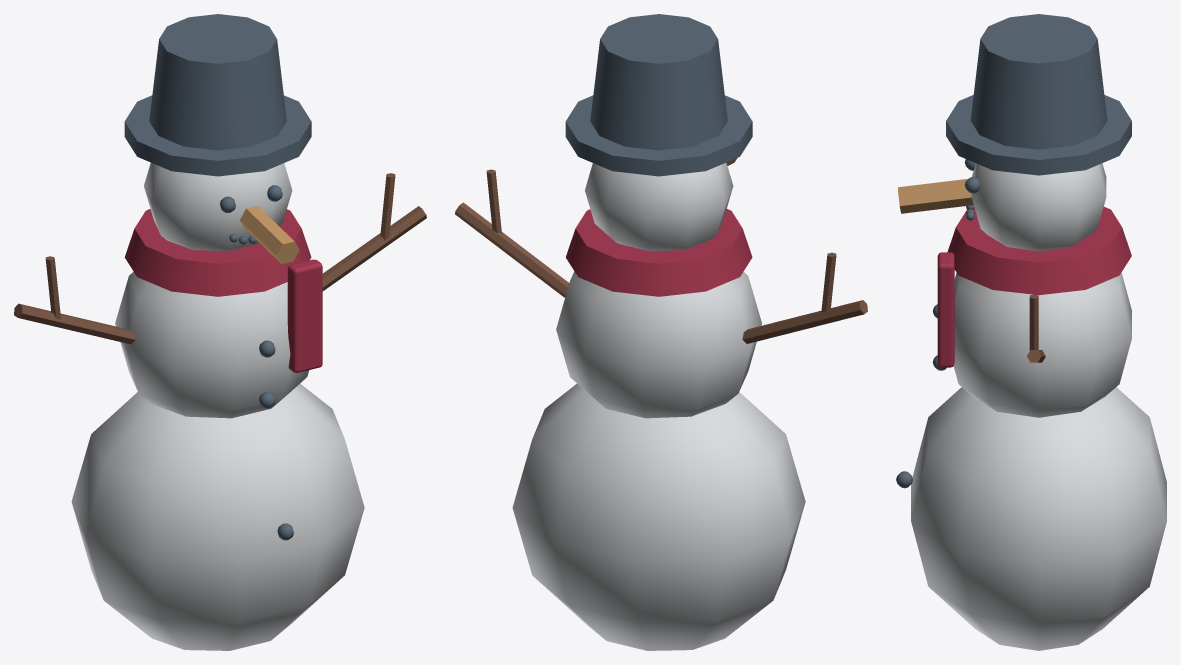
File: alpine-snow-village-smiling-scarf-snowman-e99ab7a5__19822.glb
3 views of the same model, side by side, from view 1: azimuth 30°, elevation 25°; view 2: azimuth 150°, elevation 25°; view 3: azimuth 270°, elevation 25° (orthographic).
Visible parts, largest first — view 1: smiling-scarf-snowman-snow, smiling-scarf-snowman-iron, smiling-scarf-snowman-berry, smiling-scarf-snowman-wood, smiling-scarf-snowman-oak; view 2: smiling-scarf-snowman-snow, smiling-scarf-snowman-iron, smiling-scarf-snowman-berry, smiling-scarf-snowman-wood; view 3: smiling-scarf-snowman-snow, smiling-scarf-snowman-iron, smiling-scarf-snowman-berry, smiling-scarf-snowman-oak, smiling-scarf-snowman-wood.
Boxes of the visible parts, x1,y1,x2,y2 form: smiling-scarf-snowman-snow: [71, 162, 364, 650]; smiling-scarf-snowman-iron: [124, 14, 311, 540]; smiling-scarf-snowman-berry: [124, 209, 322, 372]; smiling-scarf-snowman-wood: [14, 173, 426, 344]; smiling-scarf-snowman-oak: [240, 205, 299, 264]; smiling-scarf-snowman-snow: [512, 162, 805, 650]; smiling-scarf-snowman-iron: [565, 14, 752, 176]; smiling-scarf-snowman-berry: [565, 209, 752, 296]; smiling-scarf-snowman-wood: [455, 169, 867, 343]; smiling-scarf-snowman-snow: [911, 163, 1166, 650]; smiling-scarf-snowman-iron: [896, 14, 1131, 488]; smiling-scarf-snowman-berry: [937, 206, 1131, 367]; smiling-scarf-snowman-oak: [898, 178, 973, 213]; smiling-scarf-snowman-wood: [1027, 294, 1045, 362].
Bounding box in the file's own units: 1.92 × 2.7 × 1.11.
